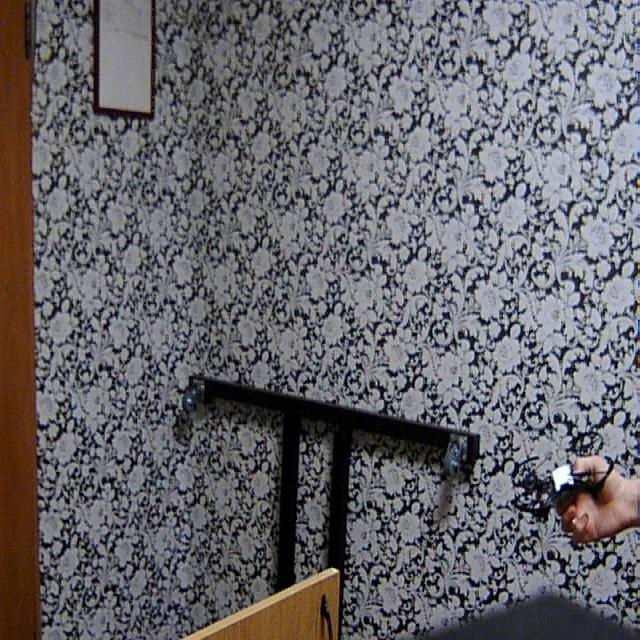drone: (499, 421, 619, 524)
